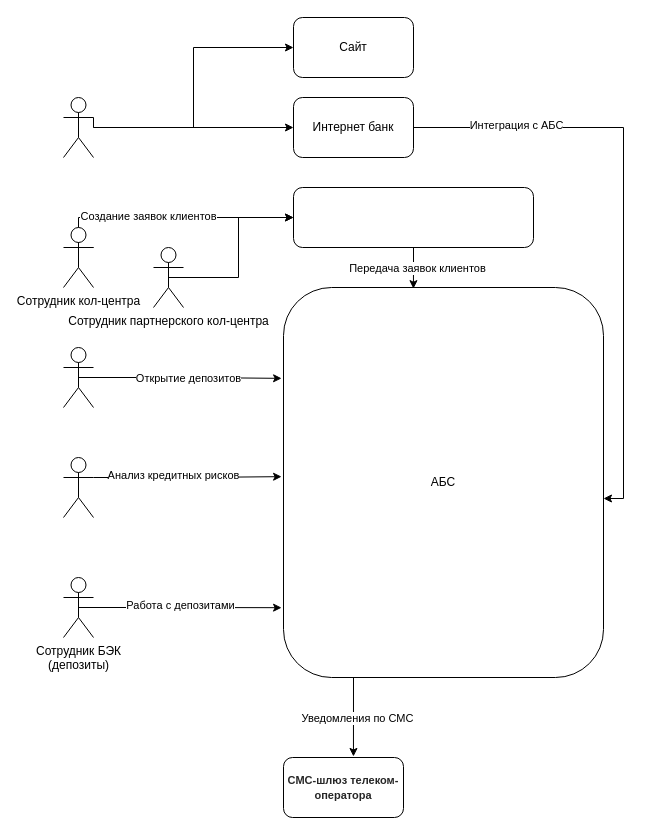
The diagram is 649 pixels wide and 835 high, and some of its shapes have lost their labels. The box of each missing label's shape, as (x1, y1, x2, y2) in pixels:
Клиент: (62, 96, 94, 158)
Сисиема кол-центра: (292, 186, 534, 248)
Сотрудник БЭК (кредиты): (62, 456, 94, 518)
Сотрудник отделения: (62, 346, 94, 408)
